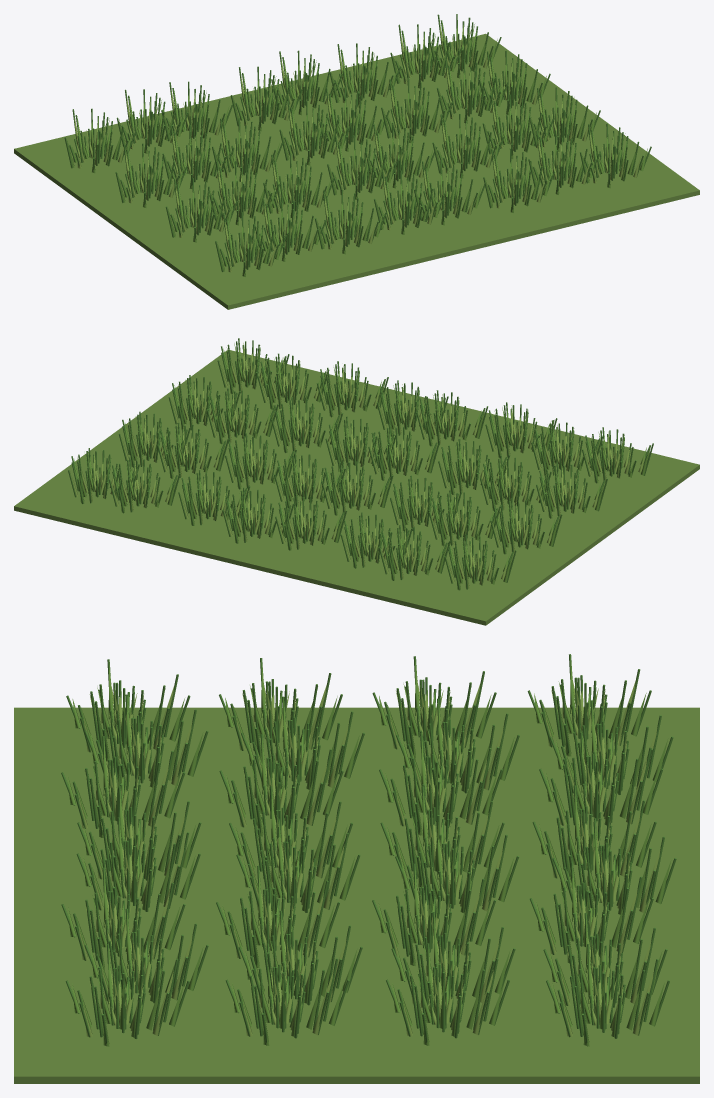
File: LV_THAM_CO_01.glb
3 renders of one model, top to bottom at view 1: azimuth 30°, elevation 25°; view 2: azimuth 150°, elevation 25°; view 3: azimuth 270°, elevation 25°, orthographic. The views are drawn at different scales.
Visible parts, largest first — view 1: LV_THAM_CO_01-surface-698b42, turf-tips-surface-53873a, turf-tips-surface-6b9c41, turf-tips-surface-88ad51; view 2: LV_THAM_CO_01-surface-698b42, turf-tips-surface-53873a, turf-tips-surface-88ad51, turf-tips-surface-6b9c41; view 3: LV_THAM_CO_01-surface-698b42, turf-tips-surface-53873a, turf-tips-surface-6b9c41, turf-tips-surface-88ad51.
Part boxes in pixels (<box>): LV_THAM_CO_01-surface-698b42: <box>14,33,699,309</box>; turf-tips-surface-53873a: <box>64,14,651,273</box>; turf-tips-surface-6b9c41: <box>66,23,647,276</box>; turf-tips-surface-88ad51: <box>74,23,641,272</box>; LV_THAM_CO_01-surface-698b42: <box>14,350,699,625</box>; turf-tips-surface-53873a: <box>68,338,653,590</box>; turf-tips-surface-88ad51: <box>70,343,644,588</box>; turf-tips-surface-6b9c41: <box>74,343,651,590</box>; LV_THAM_CO_01-surface-698b42: <box>14,707,699,1083</box>; turf-tips-surface-53873a: <box>61,654,676,1046</box>; turf-tips-surface-6b9c41: <box>67,658,671,1046</box>; turf-tips-surface-88ad51: <box>78,679,660,1037</box>.
Bounding box in the file's own units: 2.8 × 0.2727 × 2.2.
